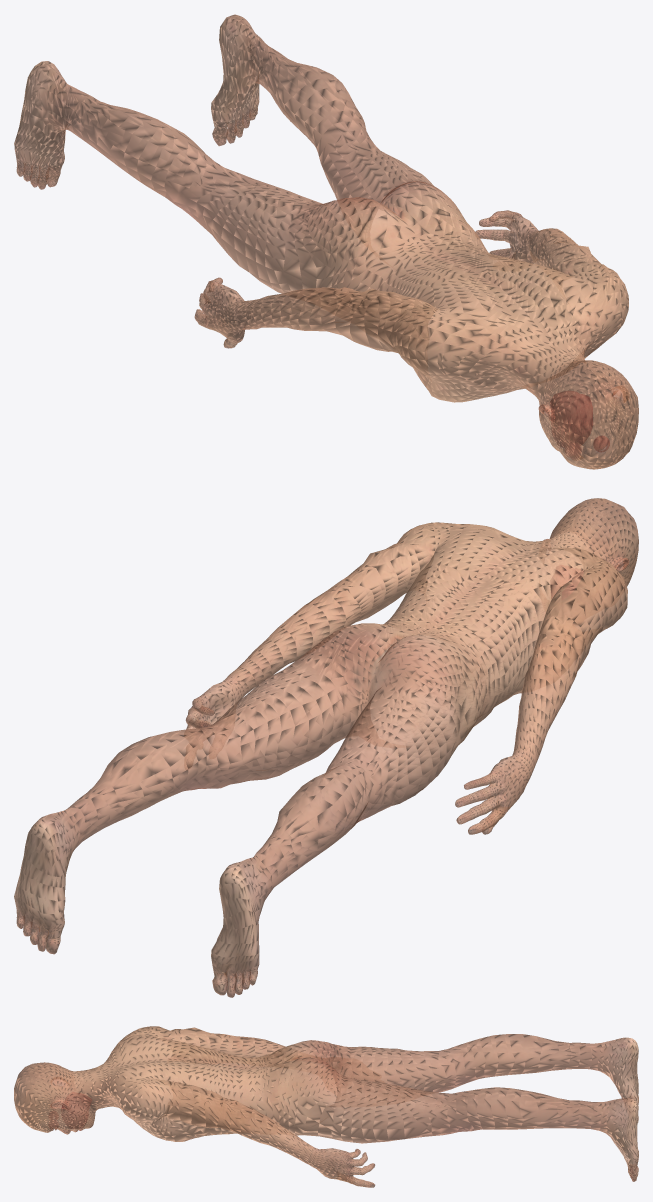
File: human-body final.glb
3 views of the same model, one above another, from view 1: azimuth 30°, elevation 25°; view 2: azimuth 150°, elevation 25°; view 3: azimuth 270°, elevation 25° (orthographic). The views are drawn at different scales.
Parts seen in each view (by area): view 1: male_muscle_13290Mesh; view 2: male_muscle_13290Mesh; view 3: male_muscle_13290Mesh.
Part boxes in pixels (<box>): male_muscle_13290Mesh: <box>14,14,638,469</box>; male_muscle_13290Mesh: <box>14,498,638,997</box>; male_muscle_13290Mesh: <box>14,1026,638,1187</box>.
Size of the model in its own units: 0.679 by 0.3135 by 1.78.
Materials: 1 (1 with a texture image).
